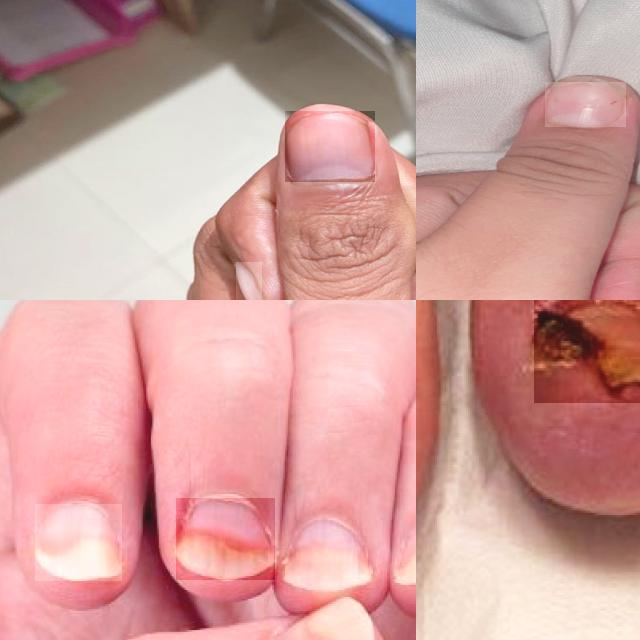diabetes: (534, 300, 640, 393), (177, 499, 275, 580), (35, 504, 122, 581), (284, 519, 372, 591), (277, 598, 375, 640), (393, 531, 416, 586)
sehat: (285, 112, 375, 182), (546, 83, 626, 127), (237, 262, 262, 300)
